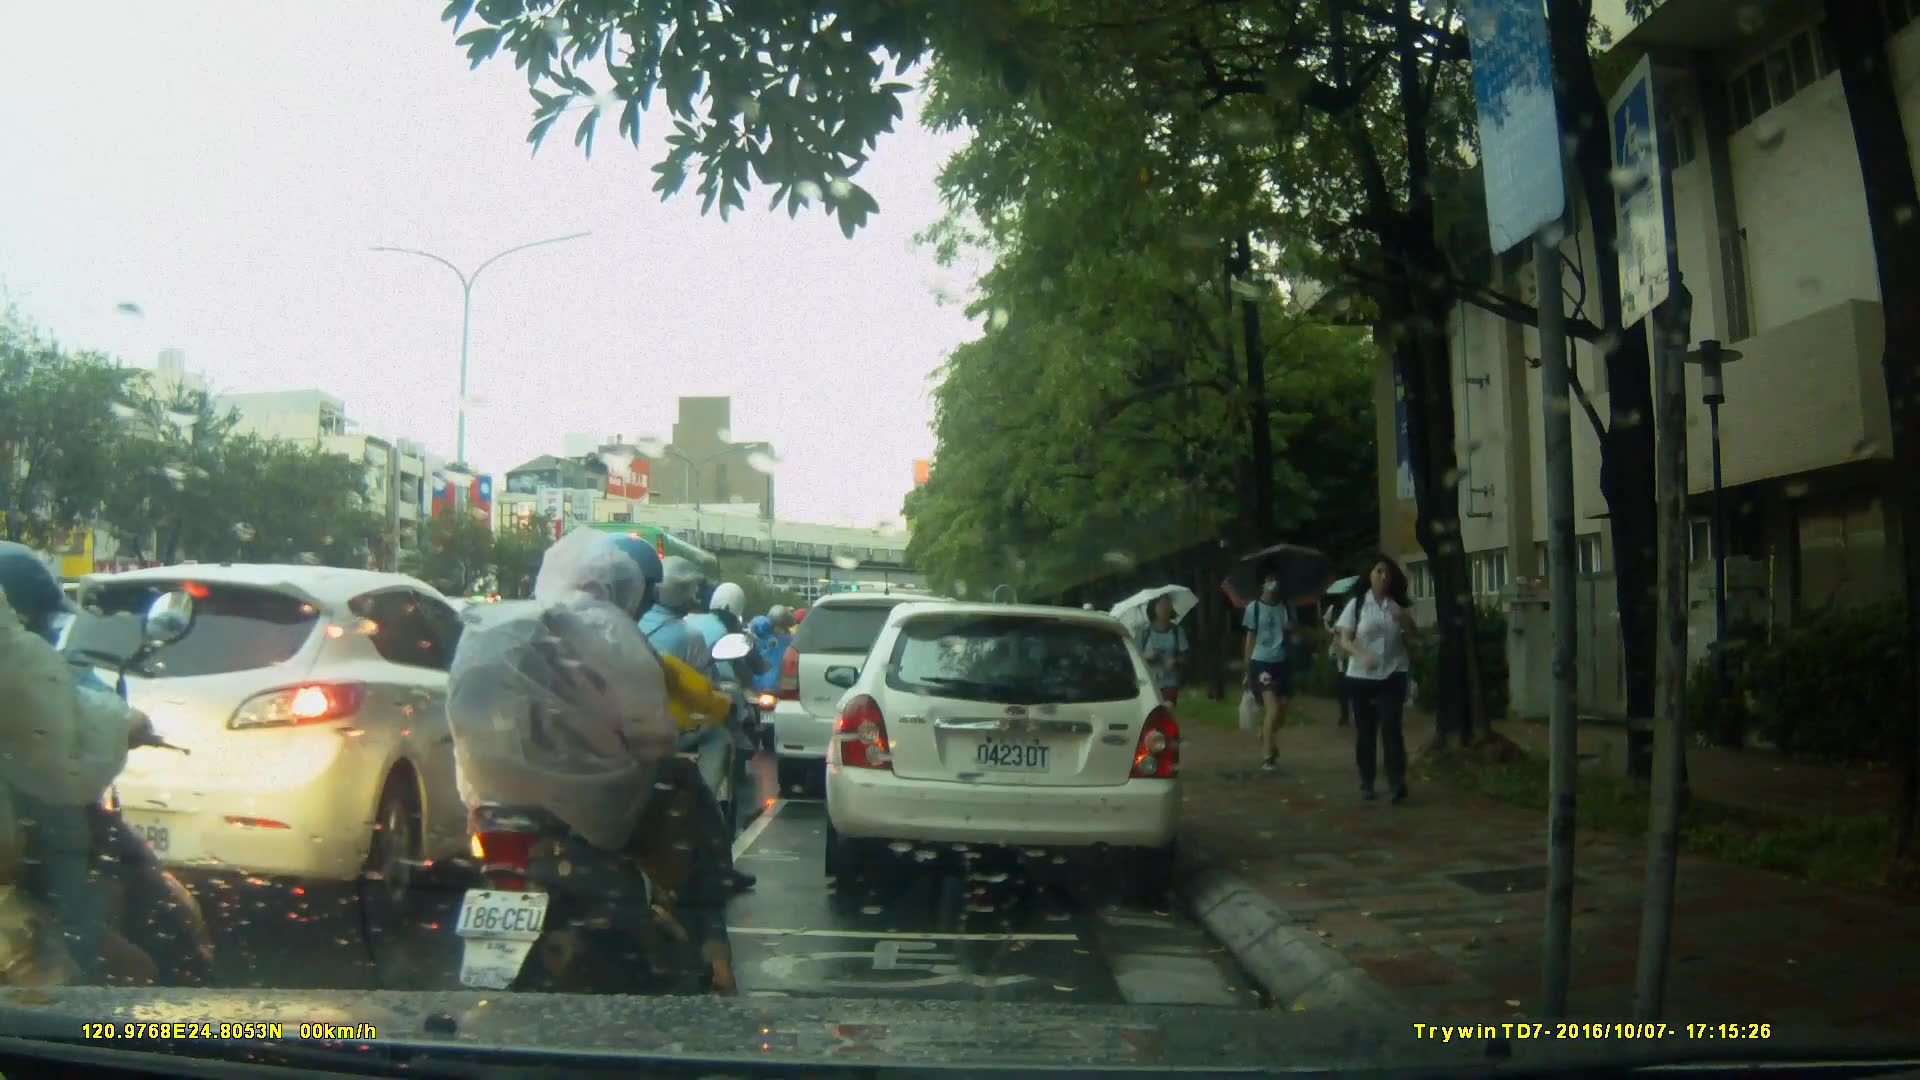pedestrian: (1327, 547, 1428, 815), (1227, 561, 1308, 778), (1132, 592, 1194, 750), (1136, 606, 1176, 737)
rider: (461, 531, 765, 1015), (1, 519, 219, 1069), (595, 559, 735, 875), (639, 577, 758, 847), (737, 603, 800, 746)
vehicle: (36, 563, 569, 914), (822, 604, 1186, 882), (774, 595, 995, 802), (554, 519, 739, 666)
